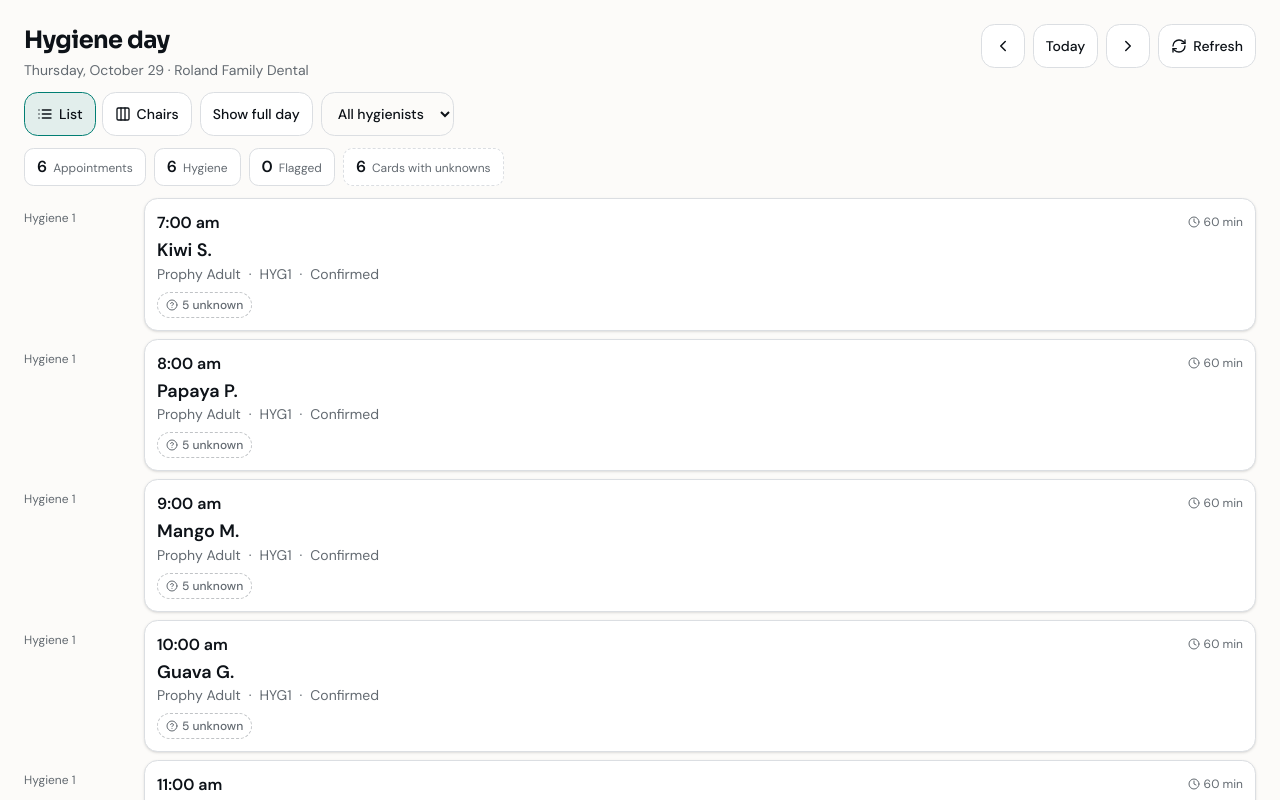
it: day cards: the progress pill › an answer for the PREVIOUS day is never drawn on the next one
The image size is (1280, 800).
What coordinates should you click on to do the following:
click the button named "Next day"
I would click on:
 (1128, 46)
Its box is [1106,24,1150,68].
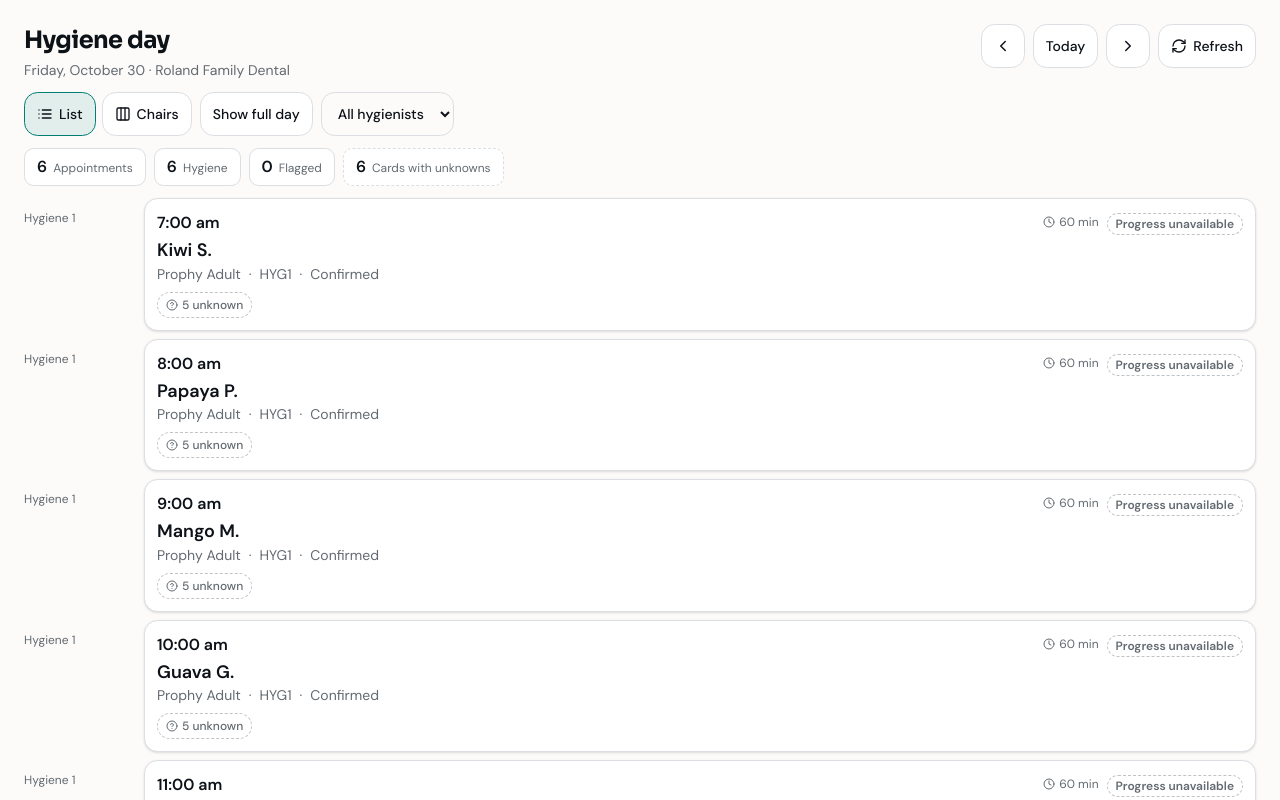
Check: the number of elements with test id "hyg-progress-unavailable" is 6
